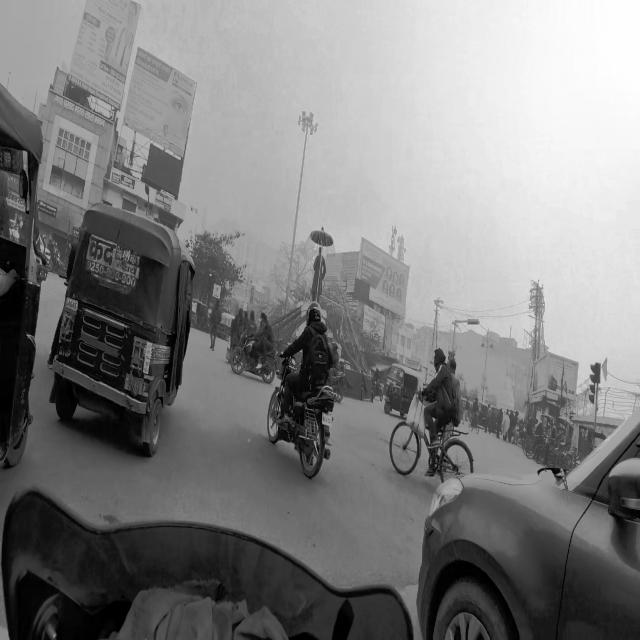Auto-Rickshaw: (56, 200, 196, 462), (0, 100, 55, 477), (382, 358, 422, 428)
Bike: (269, 298, 344, 488), (236, 316, 282, 387)
Car: (414, 387, 640, 640)
